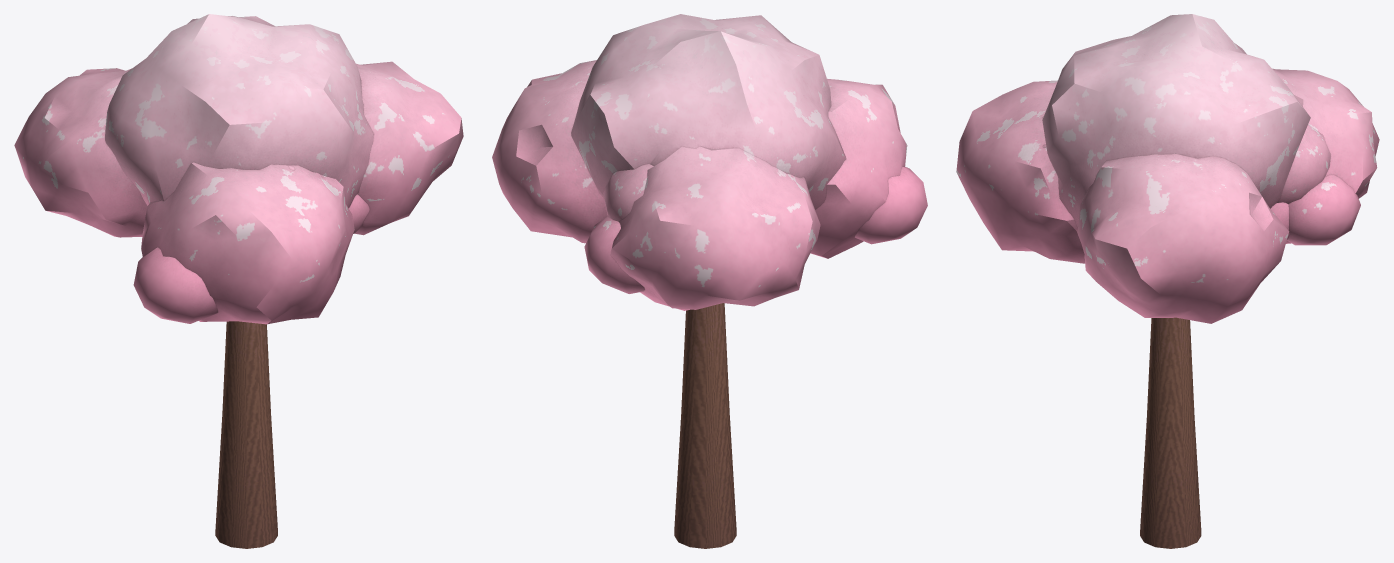
File: sakura_large_c.fbx
3 renders of one model, left to right at view 1: azimuth 30°, elevation 25°; view 2: azimuth 150°, elevation 25°; view 3: azimuth 270°, elevation 25°, orthographic. The views are drawn at different scales.
Parts seen in each view (by area): view 1: sakura_large_c; view 2: sakura_large_c; view 3: sakura_large_c.
Part boxes in pixels (box(x1,y1,x2,y2)): sakura_large_c: box(14, 14, 463, 548); sakura_large_c: box(492, 14, 927, 548); sakura_large_c: box(956, 14, 1379, 548).
Bounding box in the file's own units: 3341 × 4590 × 3457.
1 material, 1 textured.
